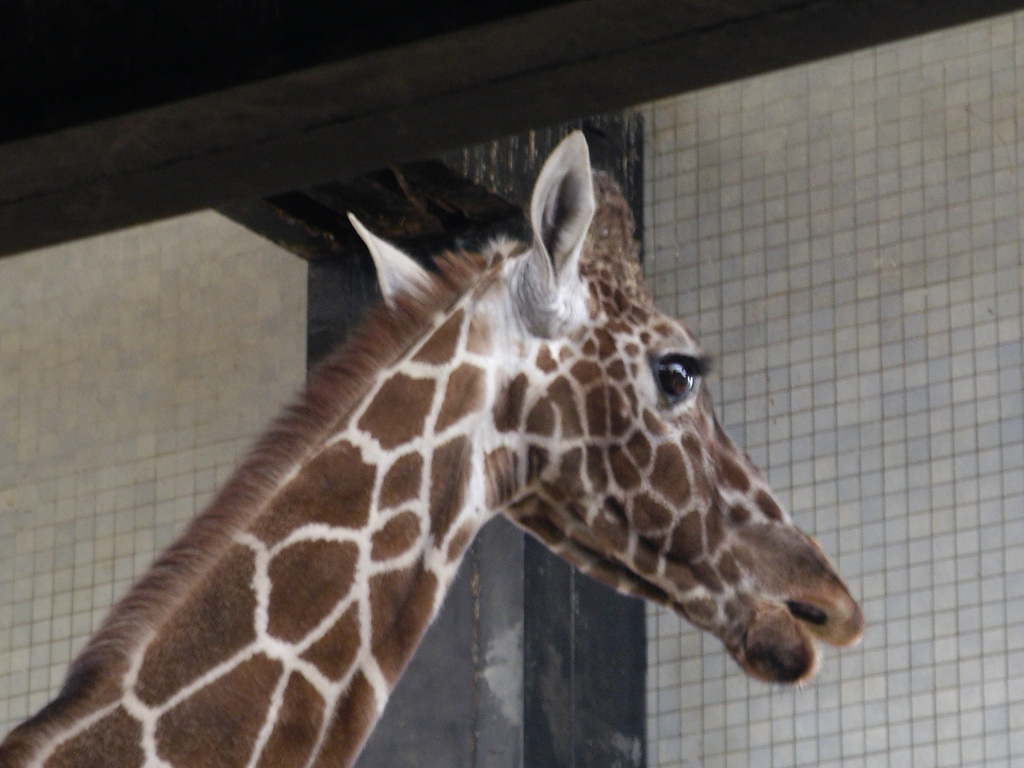giraffe: (65, 157, 865, 741)
